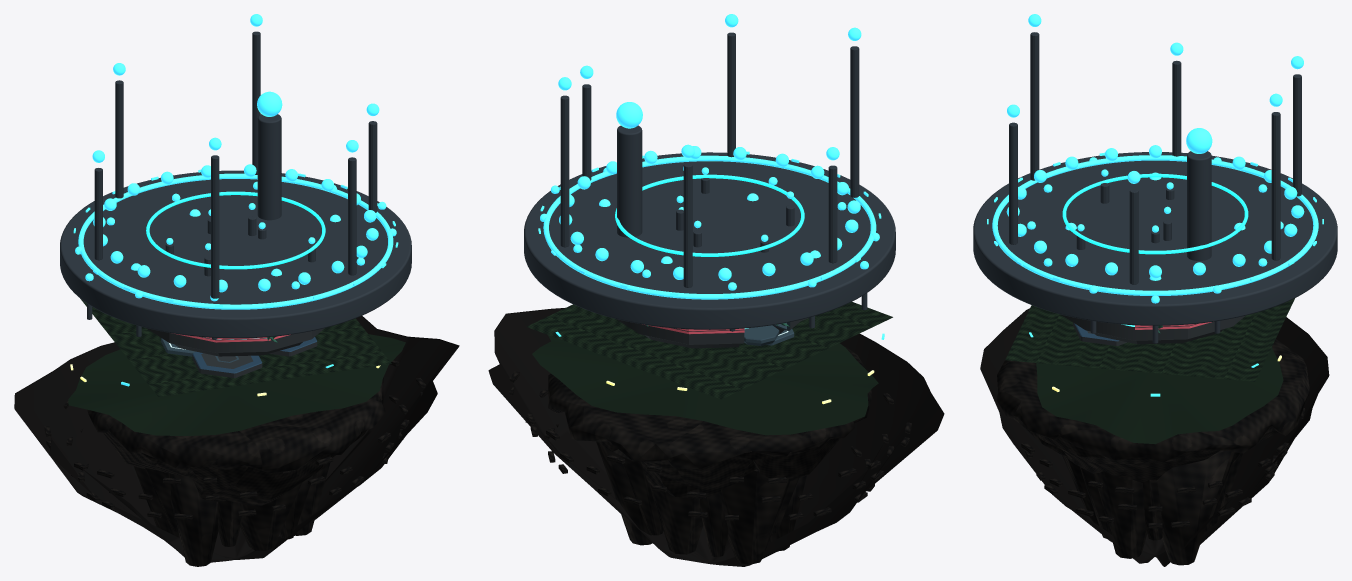
3 views of the same model, side by side, from view 1: azimuth 30°, elevation 25°; view 2: azimuth 150°, elevation 25°; view 3: azimuth 270°, elevation 25° (orthographic). The views are drawn at different scales.
Parts seen in each view (by area): view 1: AI_PM_versions_round_deck, AI_PM_versions_organic_rock_shell, AI_PM_versions_island_Floating_Island_01_Art, AI_PM_versions_terrain_cap, AI_PM_versions_terrain_surface_Terrain_Art, AI_PM_versions_outer_light_ring, AI_PM_versions_underside_shard_05, AI_PM_versions_control_tower, AI_PM_versions_station_ring_Aero_Station_Ring_Art, AI_PM_versions_hex_field_Aero_Ground_Hexagons_02_Art, AI_PM_versions_underside_shard_03, AI_PM_versions_inner_service_ring (+11 smaller); view 2: AI_PM_versions_round_deck, AI_PM_versions_organic_rock_shell, AI_PM_versions_terrain_cap, AI_PM_versions_island_Floating_Island_01_Art, AI_PM_versions_terrain_surface_Terrain_Art, AI_PM_versions_underside_shard_07, AI_PM_versions_outer_light_ring, AI_PM_versions_control_tower, AI_PM_versions_station_ring_Aero_Station_Ring_Art, AI_PM_versions_underside_shard_09, AI_PM_versions_underside_shard_11, AI_PM_versions_inner_service_ring (+10 smaller); view 3: AI_PM_versions_round_deck, AI_PM_versions_terrain_cap, AI_PM_versions_island_Floating_Island_01_Art, AI_PM_versions_terrain_surface_Terrain_Art, AI_PM_versions_organic_rock_shell, AI_PM_versions_underside_shard_11, AI_PM_versions_outer_light_ring, AI_PM_versions_underside_shard_01, AI_PM_versions_control_tower, AI_PM_versions_station_ring_Aero_Station_Ring_Art, AI_PM_versions_inner_service_ring, AI_PM_versions_spire_mast_05 (+10 smaller).
Boxes of the visible parts, x1,y1,x2,y2 form: AI_PM_versions_round_deck: (60, 170, 411, 338); AI_PM_versions_organic_rock_shell: (14, 316, 459, 562); AI_PM_versions_island_Floating_Island_01_Art: (87, 377, 385, 505); AI_PM_versions_terrain_cap: (68, 334, 405, 435); AI_PM_versions_terrain_surface_Terrain_Art: (80, 298, 391, 396); AI_PM_versions_outer_light_ring: (78, 173, 393, 309); AI_PM_versions_underside_shard_05: (170, 473, 218, 566); AI_PM_versions_control_tower: (257, 114, 281, 220); AI_PM_versions_station_ring_Aero_Station_Ring_Art: (146, 328, 324, 356); AI_PM_versions_hex_field_Aero_Ground_Hexagons_02_Art: (161, 337, 317, 377); AI_PM_versions_underside_shard_03: (240, 483, 301, 550); AI_PM_versions_inner_service_ring: (146, 191, 325, 269); AI_PM_versions_round_deck: (524, 152, 895, 329); AI_PM_versions_organic_rock_shell: (488, 307, 944, 566); AI_PM_versions_terrain_cap: (532, 335, 878, 435); AI_PM_versions_island_Floating_Island_01_Art: (548, 343, 871, 498); AI_PM_versions_terrain_surface_Terrain_Art: (526, 302, 892, 399); AI_PM_versions_underside_shard_07: (719, 469, 789, 564); AI_PM_versions_outer_light_ring: (543, 155, 876, 299); AI_PM_versions_control_tower: (617, 125, 642, 237); AI_PM_versions_station_ring_Aero_Station_Ring_Art: (616, 319, 802, 348); AI_PM_versions_underside_shard_09: (649, 484, 703, 554); AI_PM_versions_underside_shard_11: (596, 442, 652, 545); AI_PM_versions_inner_service_ring: (615, 174, 804, 256); AI_PM_versions_round_deck: (973, 152, 1337, 325); AI_PM_versions_terrain_cap: (1036, 347, 1283, 444); AI_PM_versions_island_Floating_Island_01_Art: (996, 339, 1309, 482); AI_PM_versions_terrain_surface_Terrain_Art: (1005, 298, 1294, 381); AI_PM_versions_organic_rock_shell: (980, 308, 1329, 566); AI_PM_versions_underside_shard_11: (1157, 450, 1231, 565); AI_PM_versions_outer_light_ring: (992, 155, 1318, 295); AI_PM_versions_underside_shard_01: (1094, 471, 1147, 558); AI_PM_versions_control_tower: (1187, 151, 1211, 260); AI_PM_versions_station_ring_Aero_Station_Ring_Art: (1061, 314, 1245, 344); AI_PM_versions_inner_service_ring: (1062, 173, 1248, 254); AI_PM_versions_spire_mast_05: (1271, 112, 1280, 260).
Size of the model in its own units: 1.34 by 1.51 by 1.
Materials: 17 (6 with a texture image).
